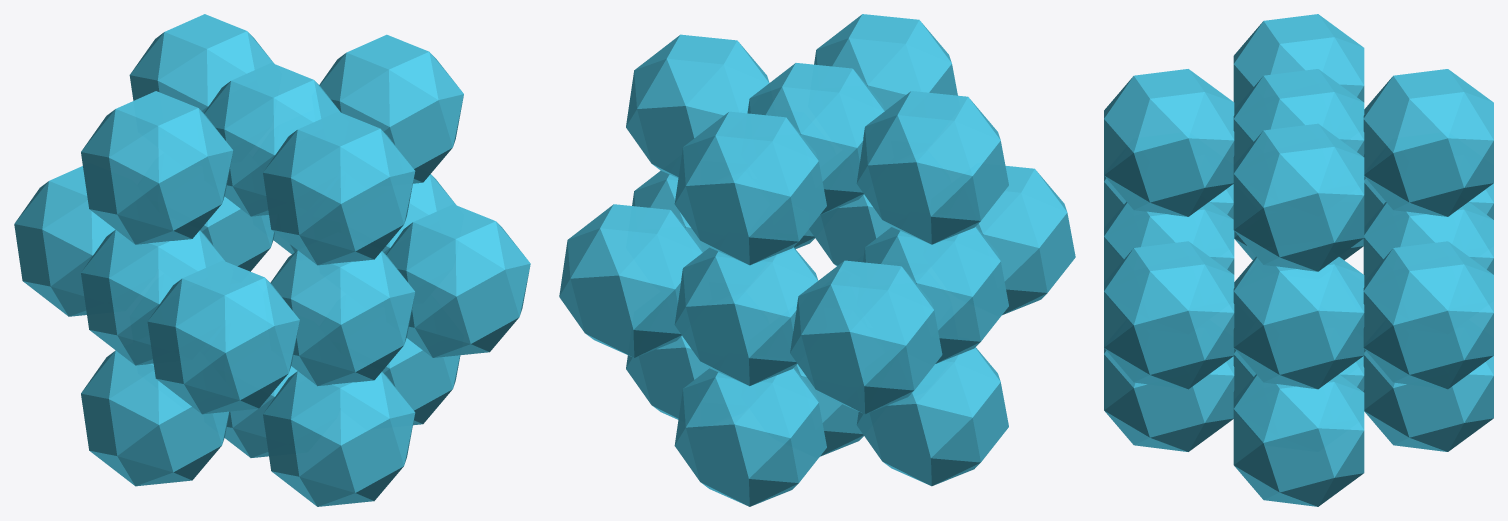
The model's file is fractalsnubcube4-1.glb.
The picture shows the model from 3 angles, left to right: view 1: azimuth 30°, elevation 25°; view 2: azimuth 150°, elevation 25°; view 3: azimuth 270°, elevation 25°; orthographic projection. The views are drawn at different scales.
Size of the model in its own units: 7.21 by 7.21 by 7.21.
